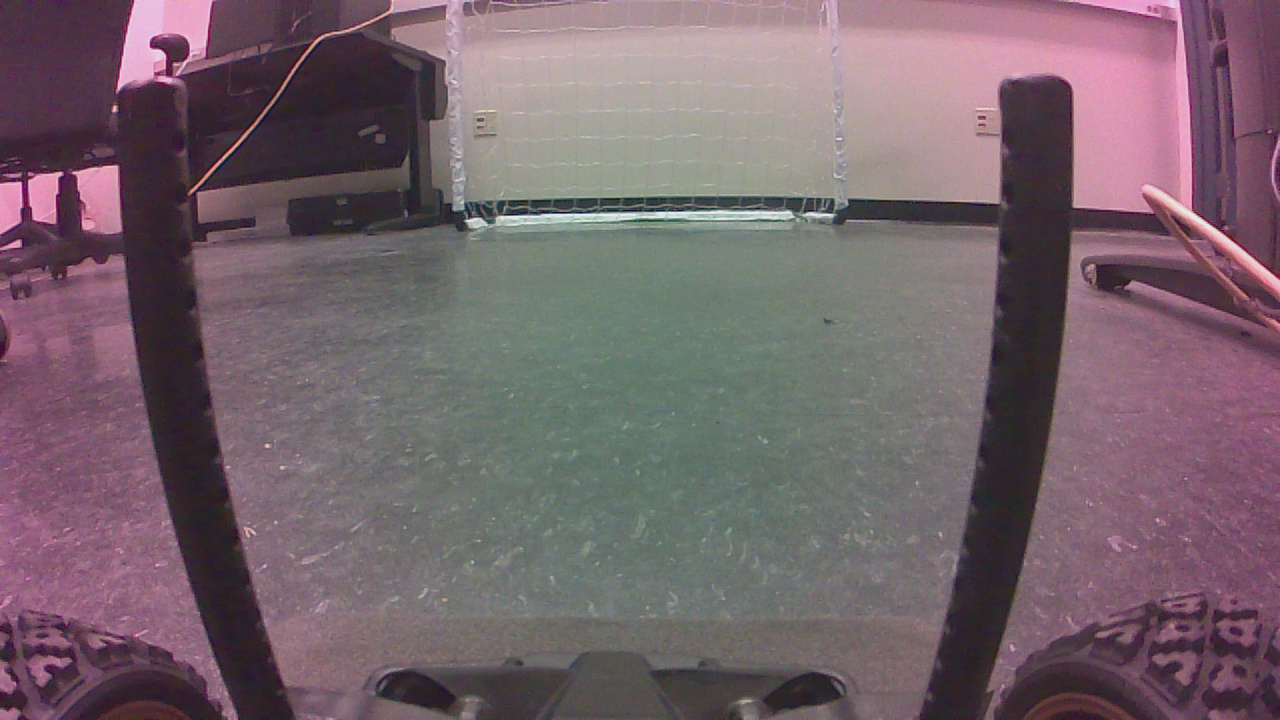goal: (448, 3, 856, 235)
